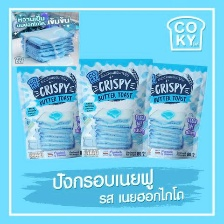snack: (73, 52, 156, 161), (132, 57, 211, 164), (12, 61, 89, 162)
